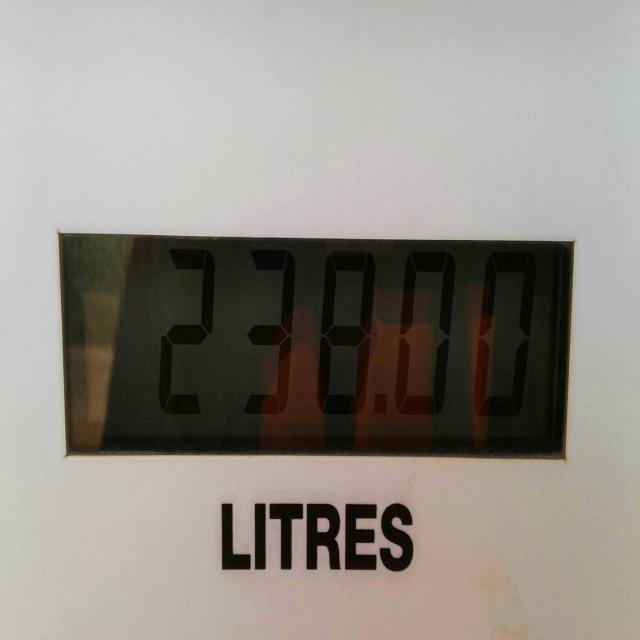.: (368, 386, 390, 429)
0: (383, 246, 456, 444), (473, 247, 546, 443)
2: (144, 242, 227, 420)
3: (236, 239, 309, 426)
8: (312, 238, 379, 424)
